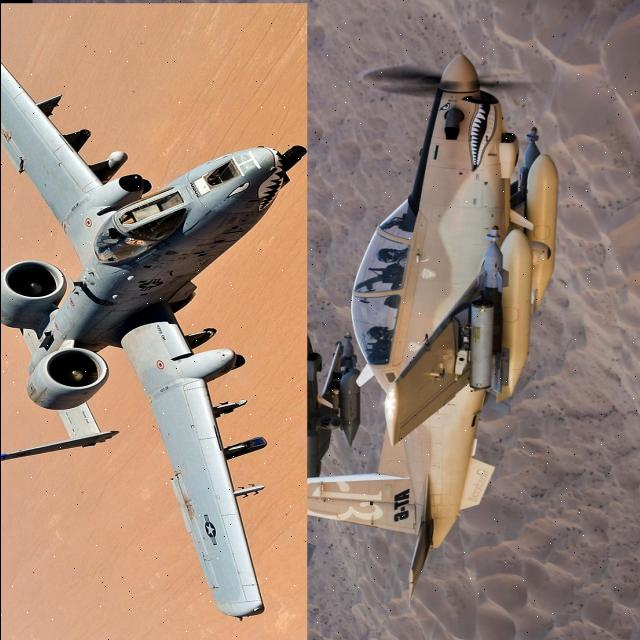A10: (0, 0, 315, 634), (308, 33, 566, 617)
